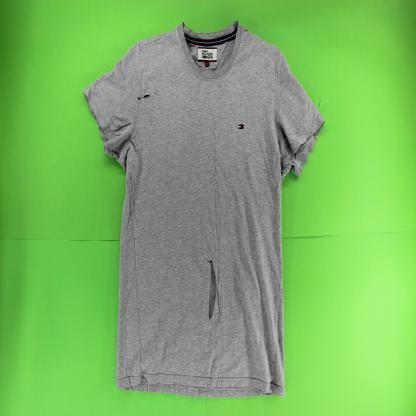hole: (208, 259, 217, 324), (136, 92, 158, 102)
